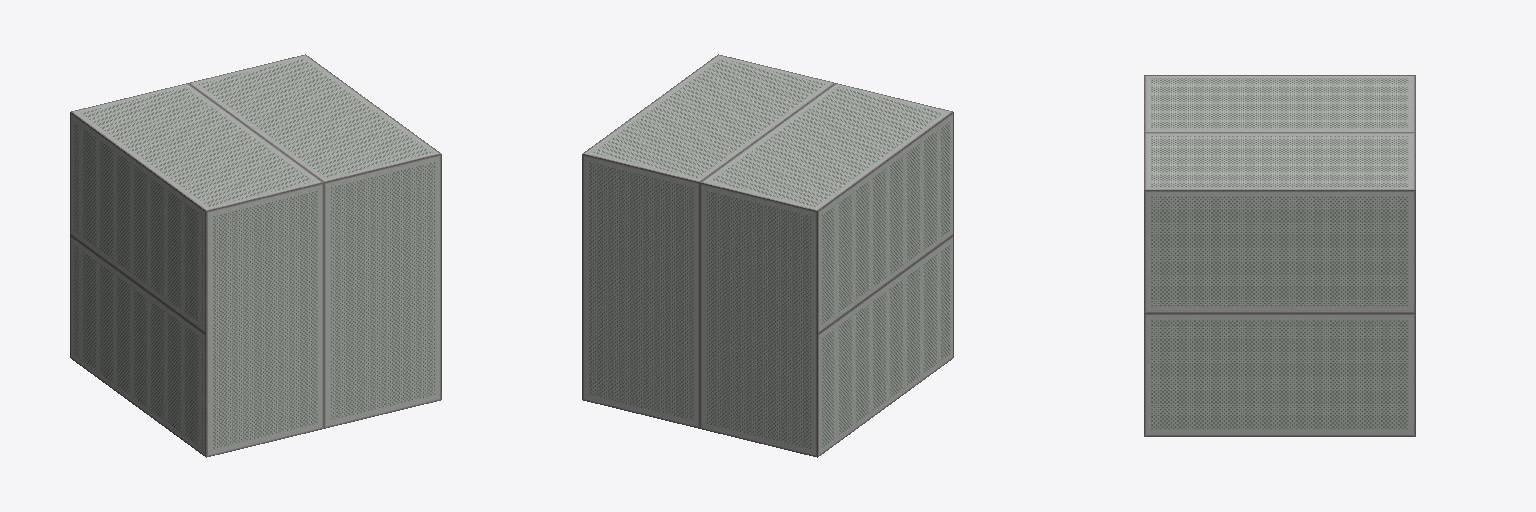
3 renders of one model, left to right at view 1: azimuth 30°, elevation 25°; view 2: azimuth 150°, elevation 25°; view 3: azimuth 270°, elevation 25°, orthographic.
Visible parts, largest first — view 1: Object.1; view 2: Object.1; view 3: Object.1.
Boxes of the visible parts, x1,y1,x2,y2 form: Object.1: [70, 54, 441, 457]; Object.1: [582, 54, 953, 457]; Object.1: [1144, 75, 1415, 436].
Size of the model in its own units: 1 by 1 by 1.
Materials: 1 (1 with a texture image).